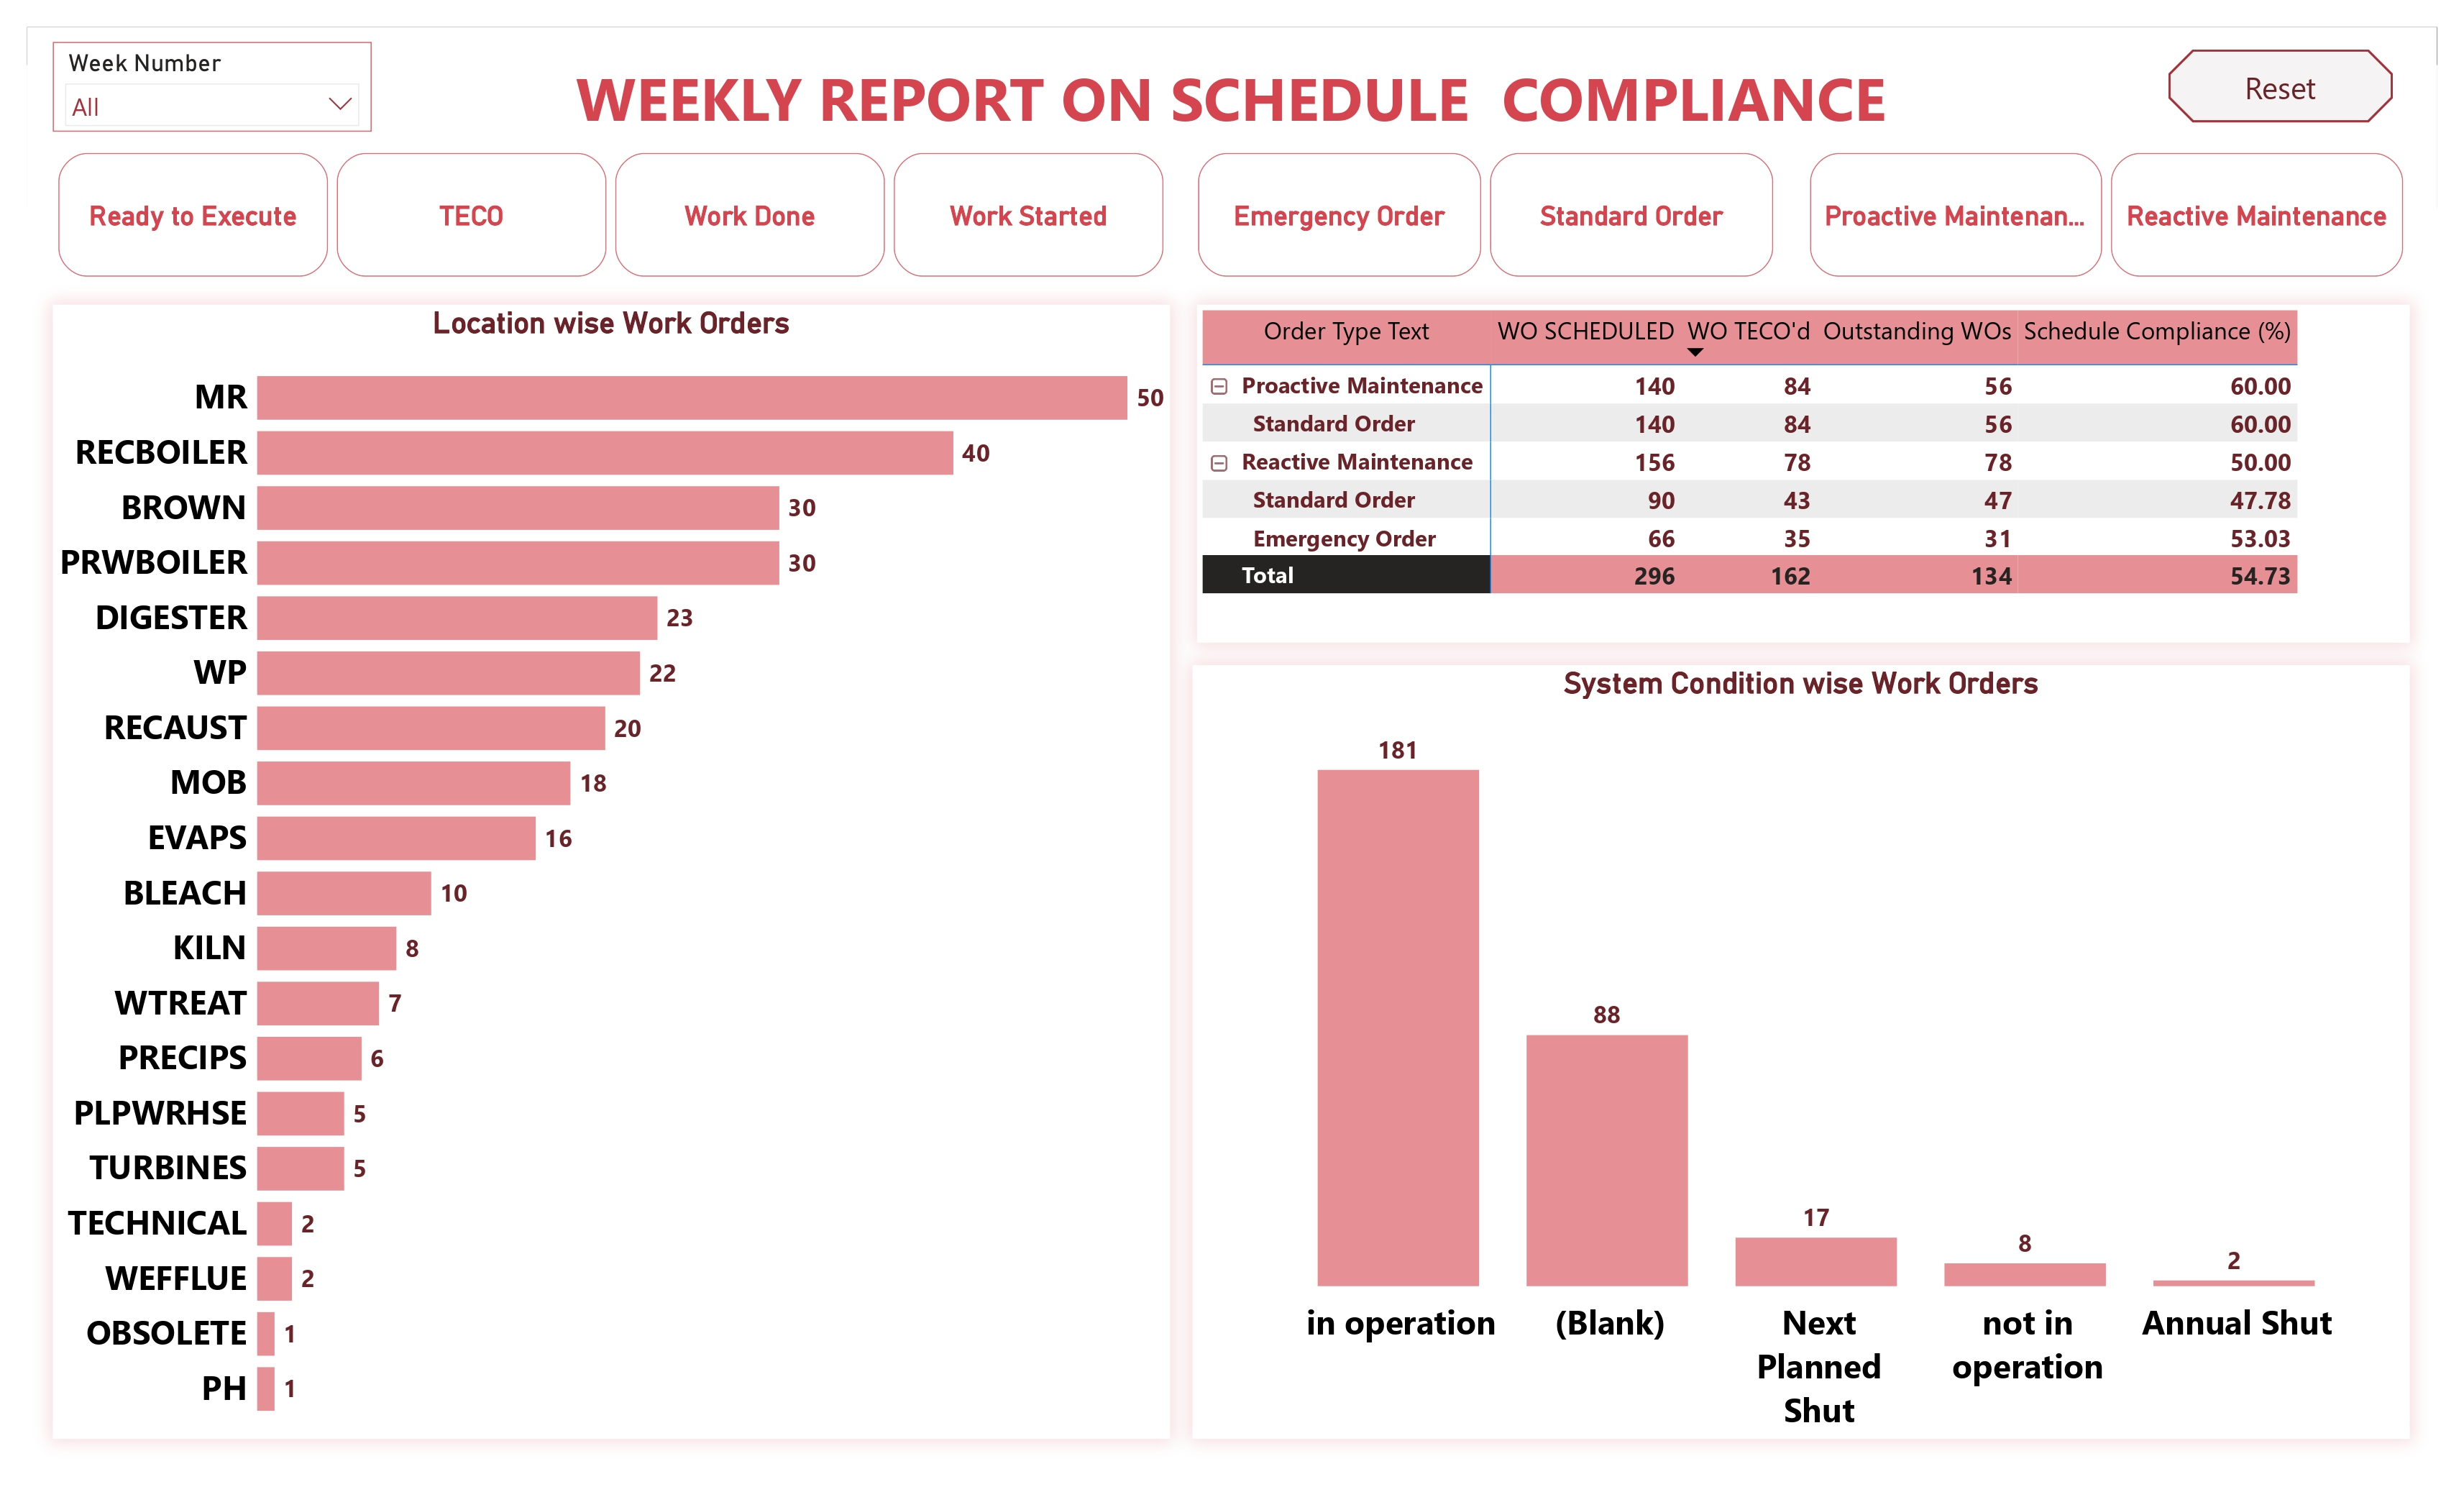

The page's visual inventory and layout, read from the dashboard file:
{"tool":"powerbi","page":{"name":"Weekly Report DashboardDashboard","canvas":[2146,1280],"ordinal":0},"visuals":[{"type":"columnChart","title":"System Condition wise Work Orders","fields":{"Category":["WEEKLY SCH COMP.System Condition Text"],"Y":["WEEKLY SCH COMP.Work Orders"]},"box":[1038.3,568.3,1083.3,688.3],"z":0},{"type":"clusteredBarChart","title":"Location wise Work Orders","fields":{"Category":["WEEKLY SCH COMP.Location"],"Y":["Data.Work Orders"]},"box":[23.3,246.7,995,1010],"z":1000},{"type":"pivotTable","fields":{"Rows":["WEEKLY SCH COMP.Order Type Text","WEEKLY SCH COMP.Short Description"],"Values":["Data.WO SCHEDULED","Data.WO TECO'd","Data.Outstanding WOs","Data.Schedule Compliance (%)"]},"box":[1041.7,246.7,1080,301.7],"z":3000},{"type":"advancedSlicerVisual","fields":{"Values":["Data.Short Description"]},"box":[1038.3,106.7,523.3,120],"z":4000},{"type":"advancedSlicerVisual","fields":{"Values":["Data.Order Type Text"]},"box":[1583.3,106.7,538.3,120],"z":5000},{"type":"advancedSlicerVisual","fields":{"Values":["Data.Subphase Description"]},"box":[23.3,106.7,995,120],"z":6000},{"type":"textbox","box":[23.3,20,2098.3,86.7],"z":7000},{"type":"actionButton","box":[1906.7,20,200,65],"z":8000},{"type":"slicer","fields":{"Values":["WEEKLY SCH COMP.Week Number"]},"box":[23.3,13.3,283.3,80],"z":8500}]}

Visuals, with their boxes in screenshot pixels (x1, y1, x2, y2):
"System Condition wise Work Orders" columnChart: (1339,576,2463,1327)
"Location wise Work Orders" clusteredBarChart: (231,224,1317,1327)
pivotTable - WEEKLY SCH COMP.Order Type Text x WEEKLY SCH COMP.Short Description: (1343,224,2463,554)
advancedSlicerVisual - Data.Short Description: (1339,72,1911,203)
advancedSlicerVisual - Data.Order Type Text: (1935,72,2463,203)
advancedSlicerVisual - Data.Subphase Description: (231,72,1317,203)
textbox: (231,0,2463,72)
actionButton: (2288,0,2463,48)
slicer - WEEKLY SCH COMP.Week Number: (231,0,540,57)
